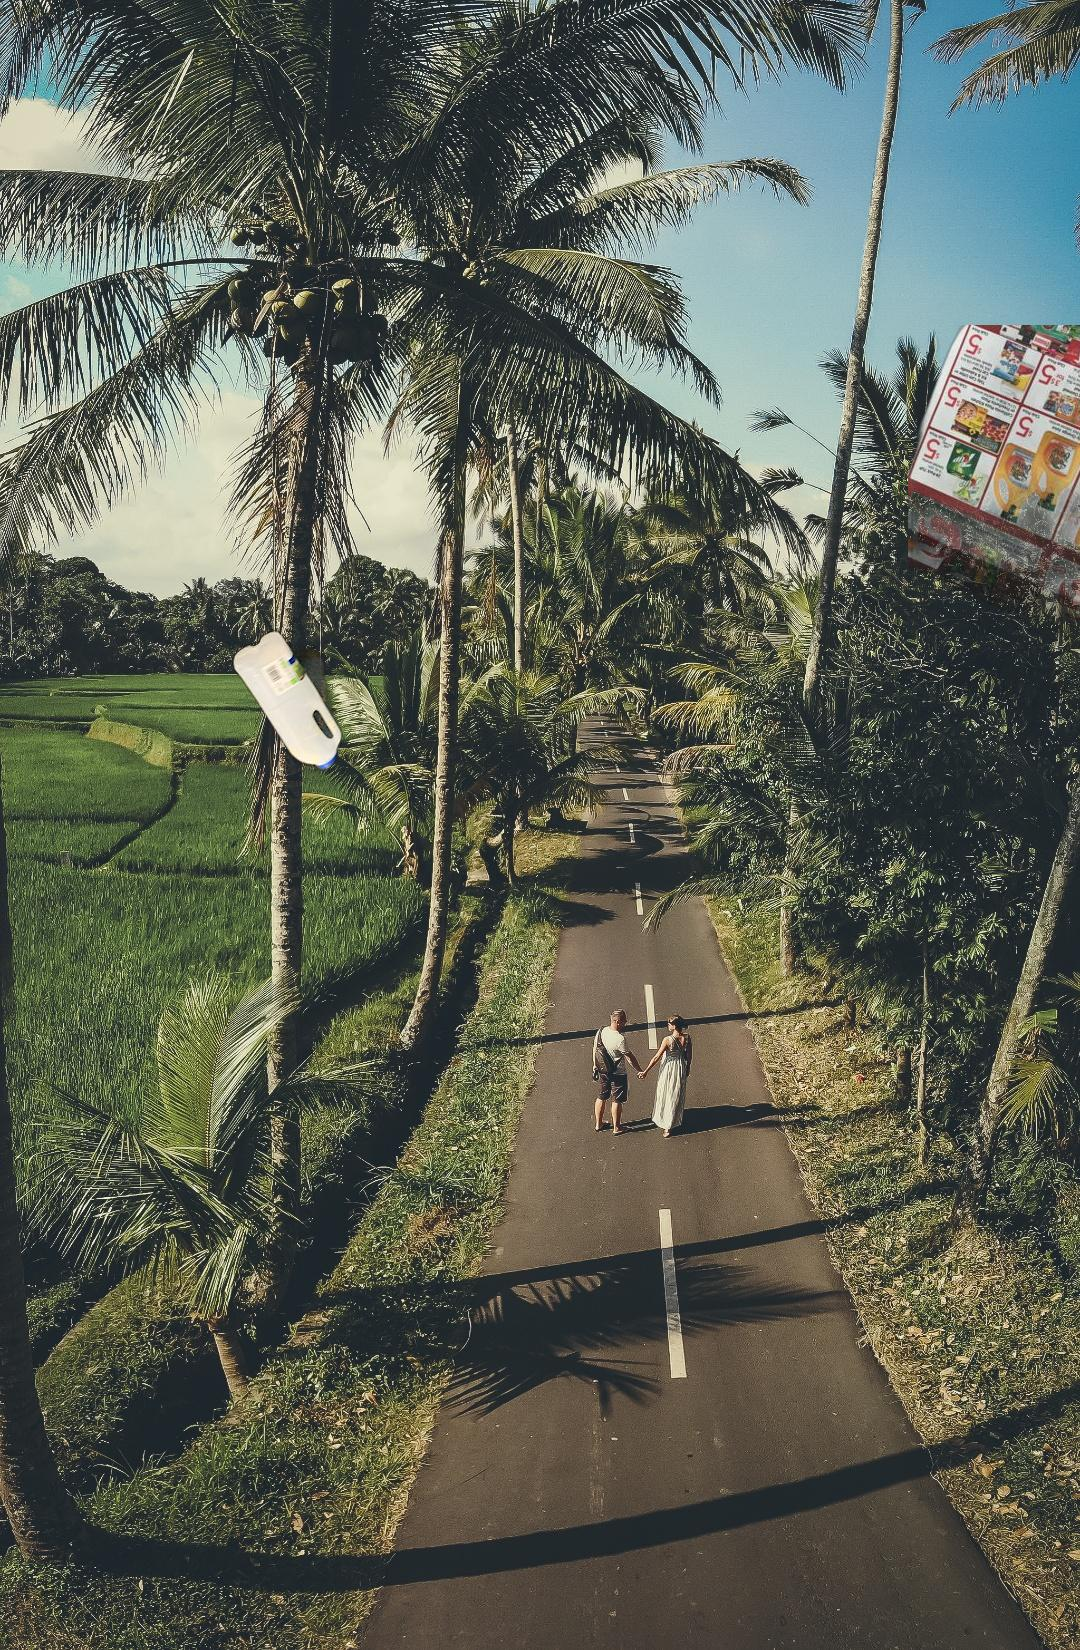paper: (908, 325, 1080, 709)
plastic-bottles: (228, 625, 347, 777)
